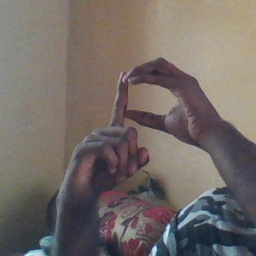P: (72, 55, 207, 187)
